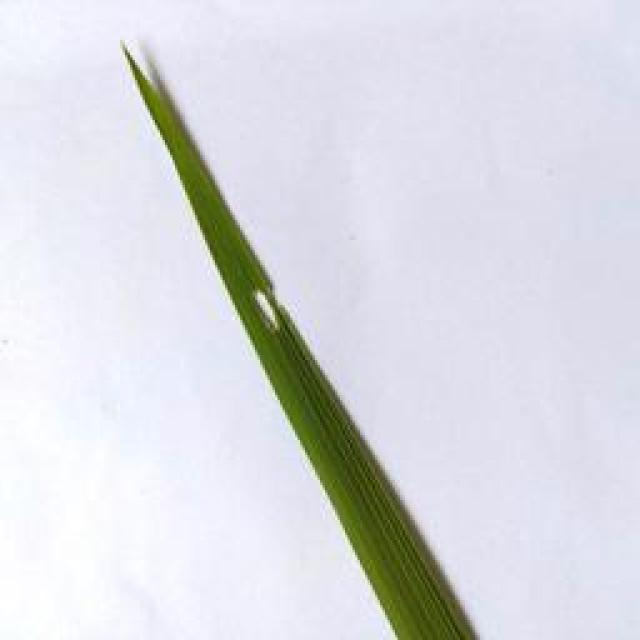Rice_Blast: (244, 280, 290, 339)
